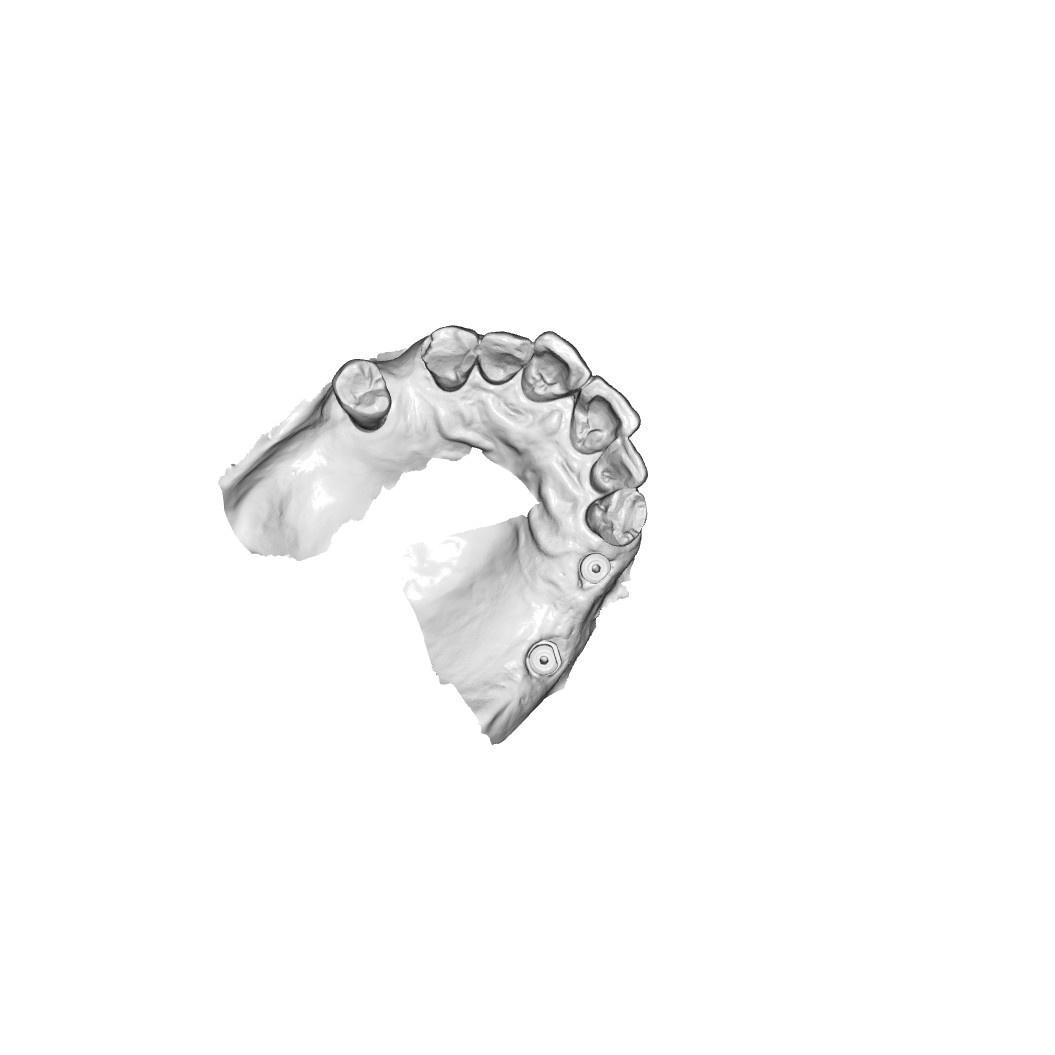canine: (419, 320, 479, 394), (581, 490, 650, 546)
implant: (524, 638, 568, 684), (579, 549, 615, 590)
incisor: (576, 378, 641, 452), (528, 332, 588, 402), (593, 437, 648, 495), (477, 329, 533, 384)
premolar: (332, 354, 392, 433)
